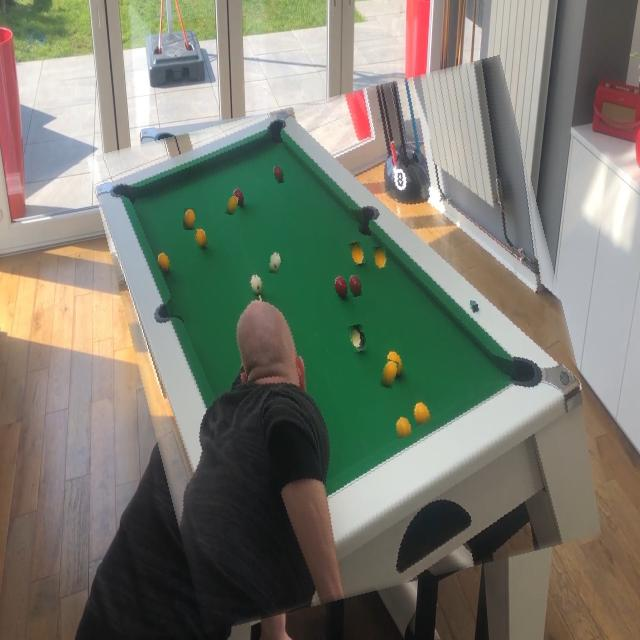Ball: (381, 360, 398, 388), (351, 326, 367, 352), (395, 416, 412, 439), (349, 275, 363, 297), (373, 246, 386, 269), (184, 208, 196, 230), (268, 252, 280, 274), (226, 196, 238, 215), (273, 166, 284, 184)
Billiard table: (113, 77, 592, 611)
